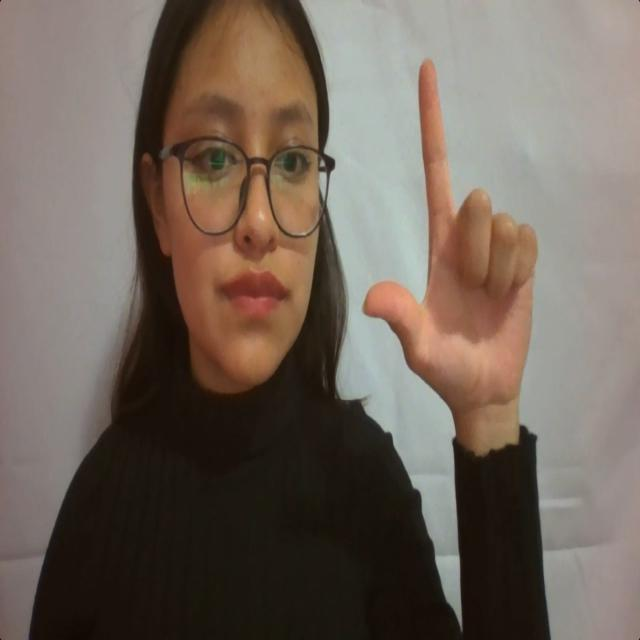L: (355, 49, 551, 423)
